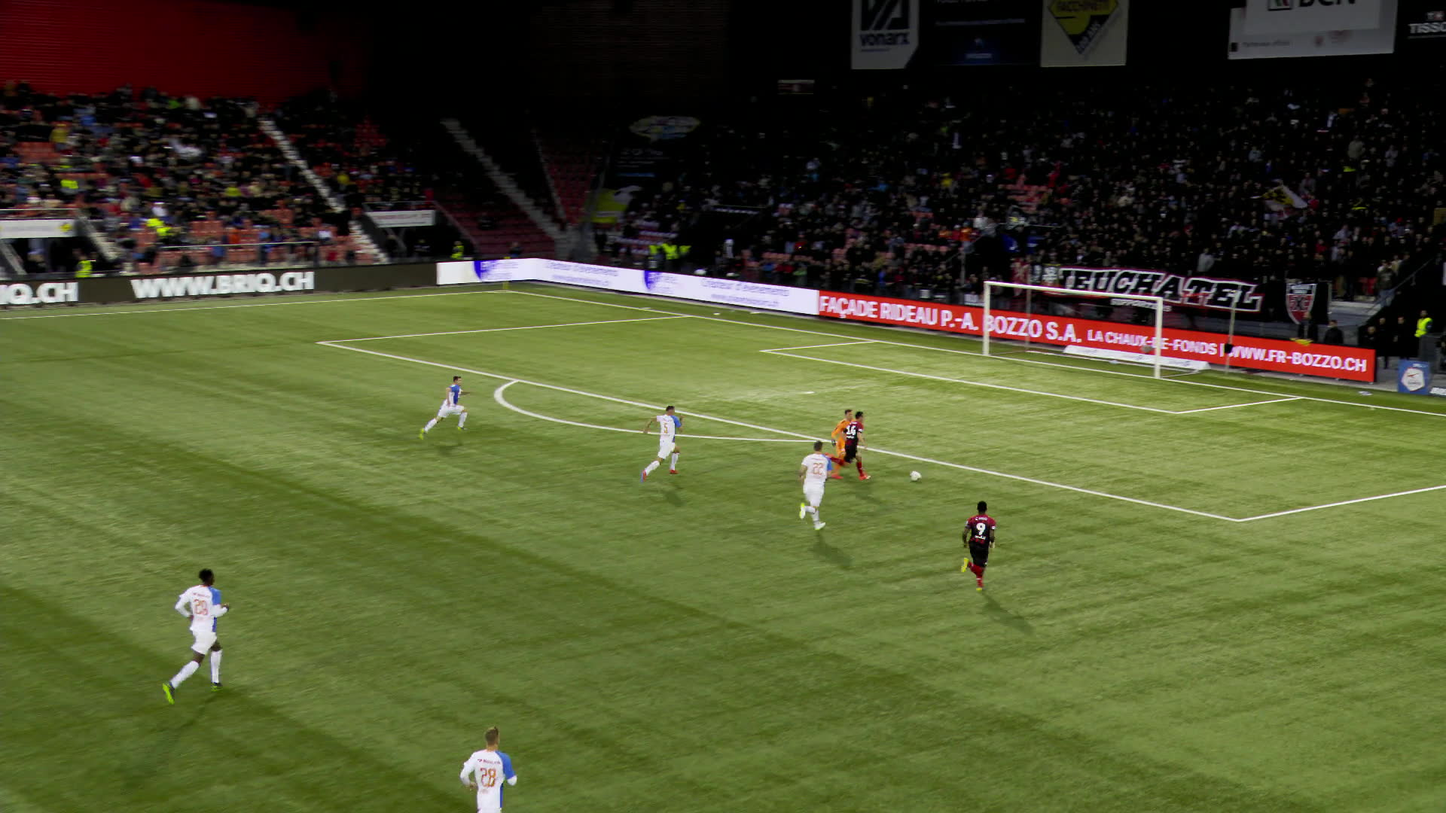ball: (910, 471, 920, 480)
player: (160, 567, 229, 705), (459, 726, 517, 812), (639, 405, 683, 482), (797, 440, 834, 531), (419, 376, 472, 439), (823, 410, 870, 480), (961, 500, 996, 591), (825, 407, 856, 480)
